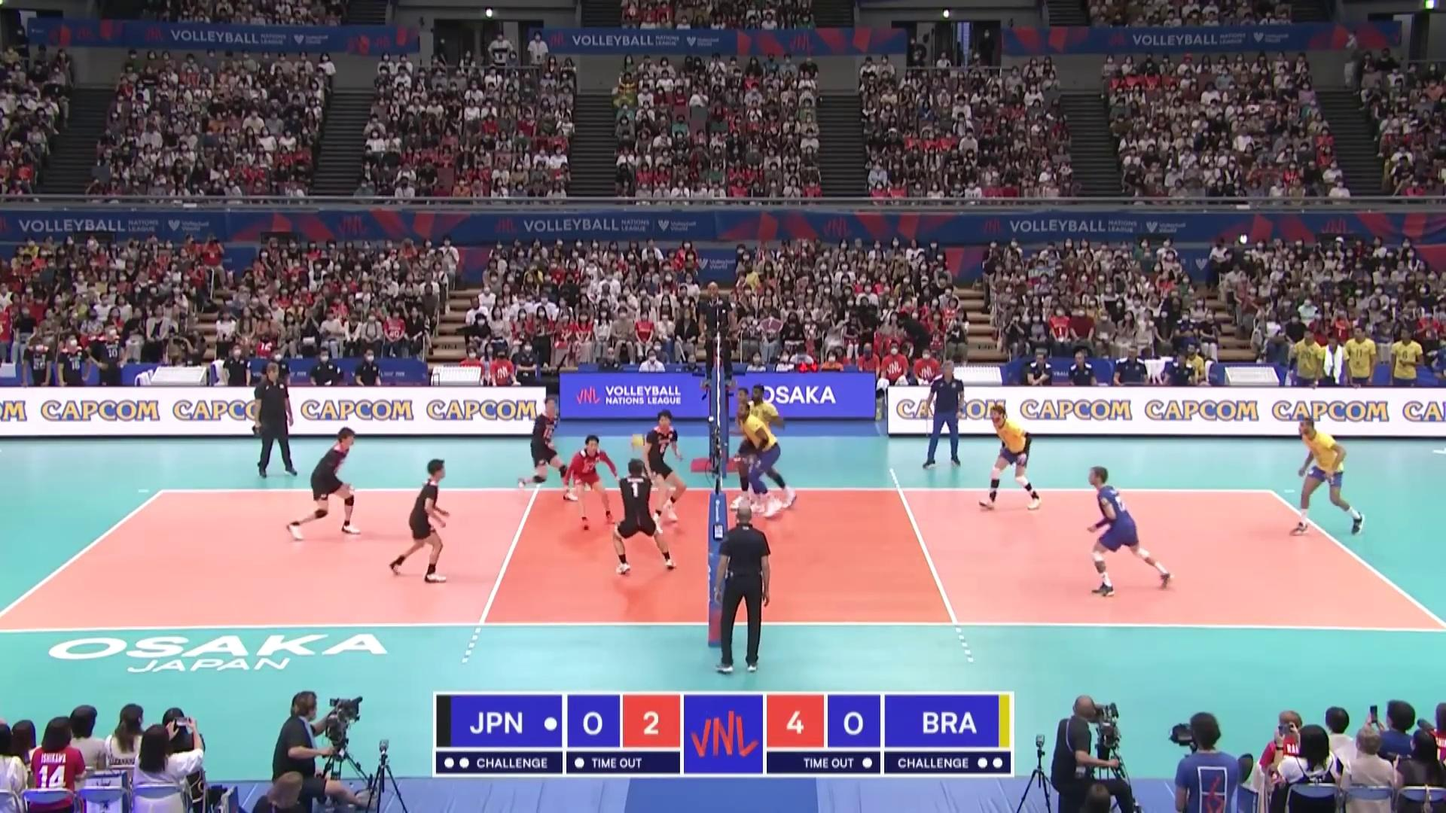player: (1084, 467, 1174, 591), (1292, 419, 1364, 537), (734, 387, 799, 511), (291, 428, 361, 540), (388, 458, 451, 580), (612, 458, 675, 575), (977, 406, 1042, 510), (518, 400, 574, 501), (736, 402, 782, 518), (742, 383, 785, 504), (565, 436, 619, 531), (645, 409, 683, 533)
refree: (713, 508, 771, 672), (702, 282, 735, 382)
